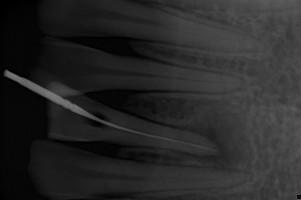Furcation Involvement: (175, 112, 253, 166)
